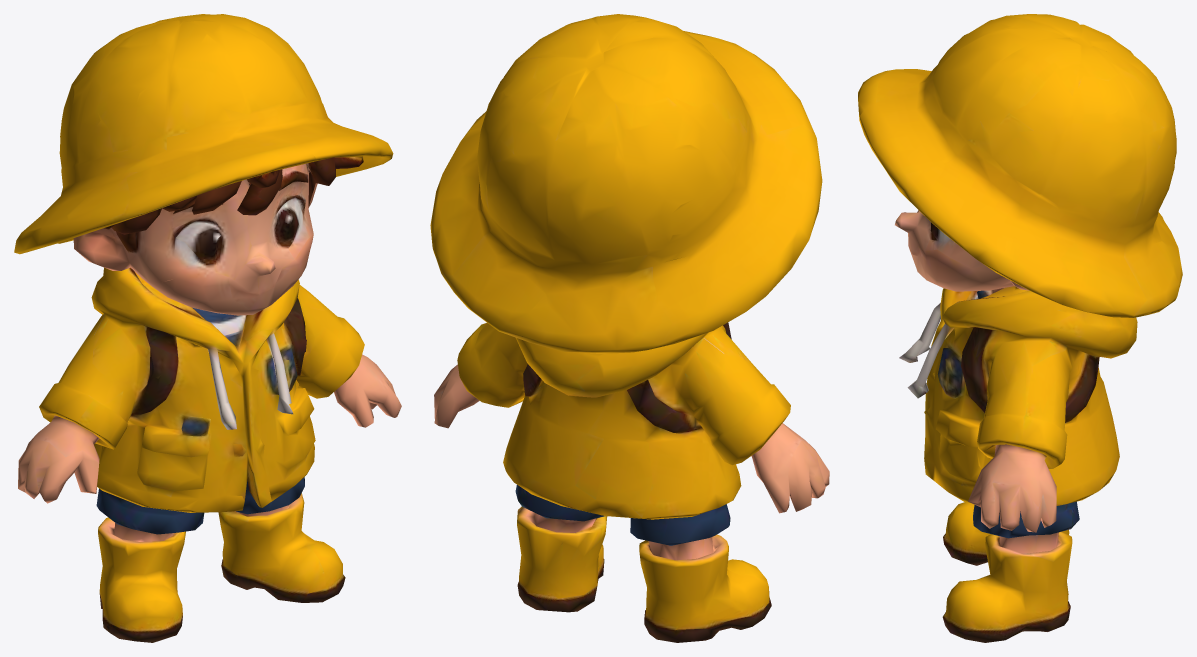
Rendered from firefighter.glb.
3 views of the same model, side by side, from view 1: azimuth 30°, elevation 25°; view 2: azimuth 150°, elevation 25°; view 3: azimuth 270°, elevation 25° (orthographic). The views are drawn at different scales.
Visible parts, largest first — view 1: tripo_node_13189f97-c4bc-416c-bab0-faf654ed77b3; view 2: tripo_node_13189f97-c4bc-416c-bab0-faf654ed77b3; view 3: tripo_node_13189f97-c4bc-416c-bab0-faf654ed77b3.
Part boxes in pixels (x1,y1,x2,y2): tripo_node_13189f97-c4bc-416c-bab0-faf654ed77b3: (14, 14, 401, 642); tripo_node_13189f97-c4bc-416c-bab0-faf654ed77b3: (430, 14, 829, 642); tripo_node_13189f97-c4bc-416c-bab0-faf654ed77b3: (858, 14, 1182, 642).
Size of the model in its own units: 0.6824 by 1 by 0.5233.
Materials: 1 (1 with a texture image).
